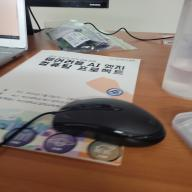mouse: (42, 88, 181, 152)
